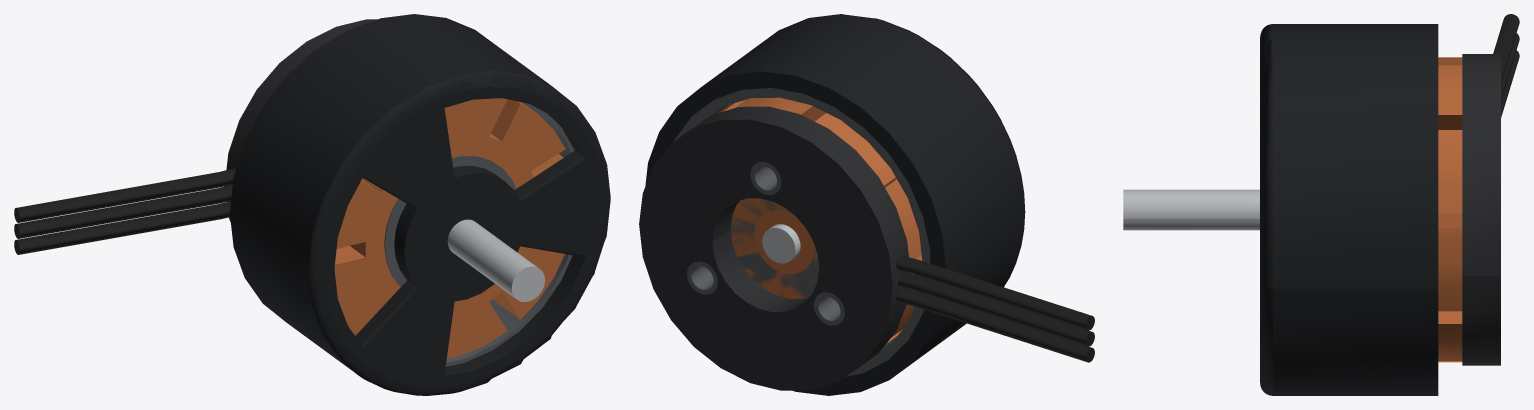
File: betafpv-1103-10500kv.glb
3 renders of one model, left to right at view 1: azimuth 30°, elevation 25°; view 2: azimuth 150°, elevation 25°; view 3: azimuth 270°, elevation 25°, orthographic. The views are drawn at different scales.
Parts seen in each view (by area): view 1: bell, stator_windings, shaft, lead_3, lead_2, lead_1, base, magnets, stator_core; view 2: base, bell, stator_windings, magnets, lead_3, lead_1, lead_2, stator_core, shaft, mount_hole_1, mount_hole_3, mount_hole_2; view 3: bell, base, stator_windings, shaft, lead_3.
Boxes of the visible parts, x1,y1,x2,y2 form: bell: [230, 14, 610, 395]; stator_windings: [334, 98, 565, 358]; shaft: [447, 219, 544, 301]; lead_3: [14, 168, 235, 222]; lead_2: [14, 184, 232, 238]; lead_1: [14, 201, 230, 254]; base: [225, 19, 376, 222]; magnets: [353, 102, 574, 366]; stator_core: [384, 155, 515, 287]; base: [639, 106, 909, 390]; bell: [645, 14, 1025, 395]; stator_windings: [718, 97, 922, 343]; magnets: [673, 88, 930, 376]; lead_3: [896, 255, 1094, 330]; lead_1: [896, 288, 1094, 362]; lead_2: [898, 272, 1094, 346]; stator_core: [730, 198, 819, 298]; shaft: [762, 224, 800, 263]; mount_hole_1: [750, 162, 781, 194]; mount_hole_3: [687, 261, 717, 294]; mount_hole_2: [814, 292, 844, 325]; bell: [1260, 24, 1438, 395]; base: [1462, 54, 1500, 365]; stator_windings: [1438, 57, 1462, 362]; shaft: [1123, 189, 1259, 230]; lead_3: [1493, 14, 1519, 83].
Bounding box in the file's own units: 21.67 × 13.6 × 14.49.
